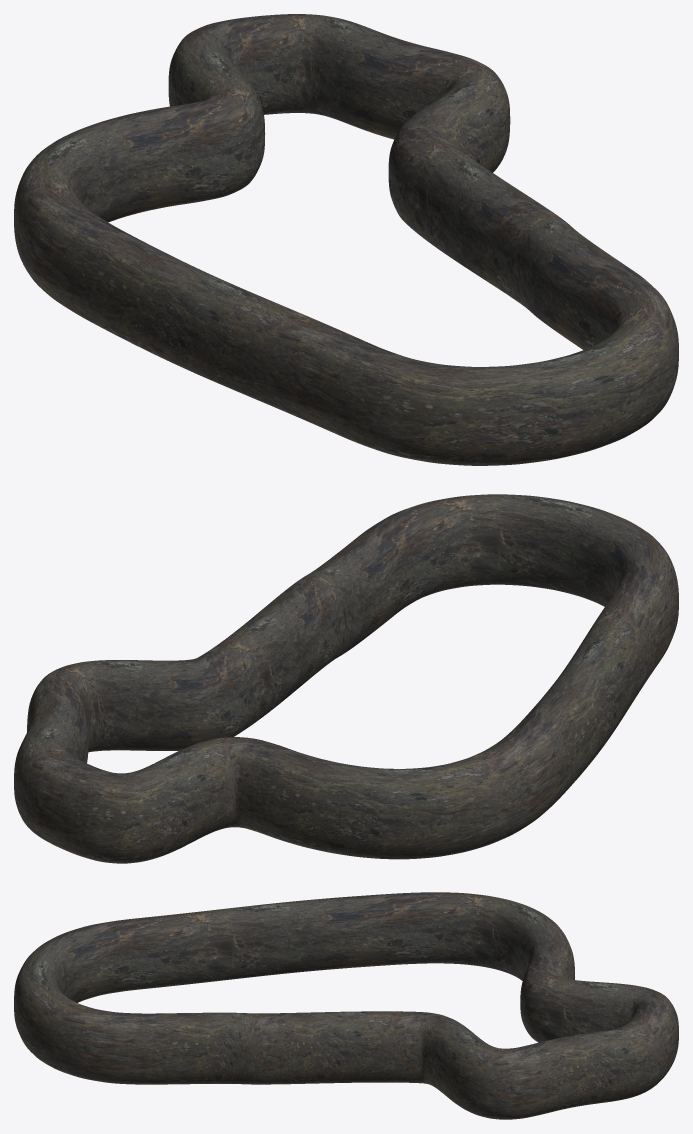
File: cave_walker.glb
3 views of the same model, one above another, from view 1: azimuth 30°, elevation 25°; view 2: azimuth 150°, elevation 25°; view 3: azimuth 270°, elevation 25° (orthographic). The views are drawn at different scales.
Parts seen in each view (by area): view 1: BezierCurve_0; view 2: BezierCurve_0; view 3: BezierCurve_0.
Part boxes in pixels (left/top/right/bottom): BezierCurve_0: left=14, top=14, right=678, bottom=465; BezierCurve_0: left=14, top=494, right=678, bottom=863; BezierCurve_0: left=14, top=892, right=678, bottom=1119.
Size of the model in its own units: 7.43 by 1.33 by 11.82.
1 material, 1 textured.
